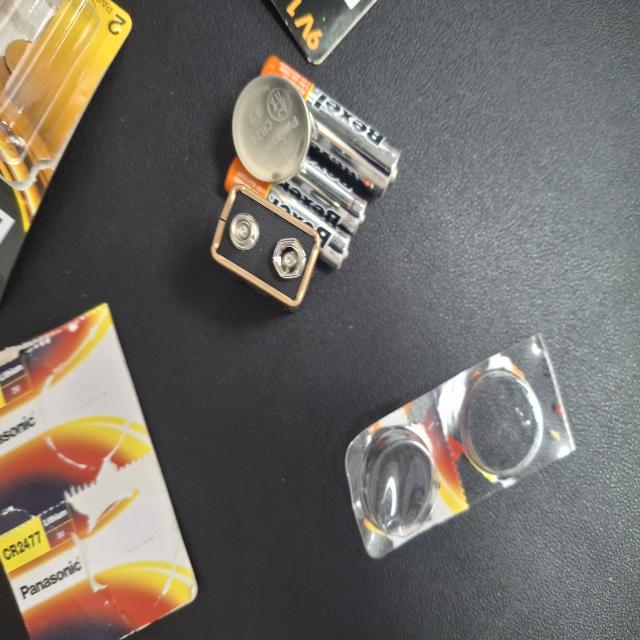9V: (250, 282, 342, 428)
AA: (335, 348, 438, 534)
AAA: (279, 299, 362, 469), (306, 376, 361, 489), (278, 426, 302, 462)
COIN: (343, 310, 424, 414)
